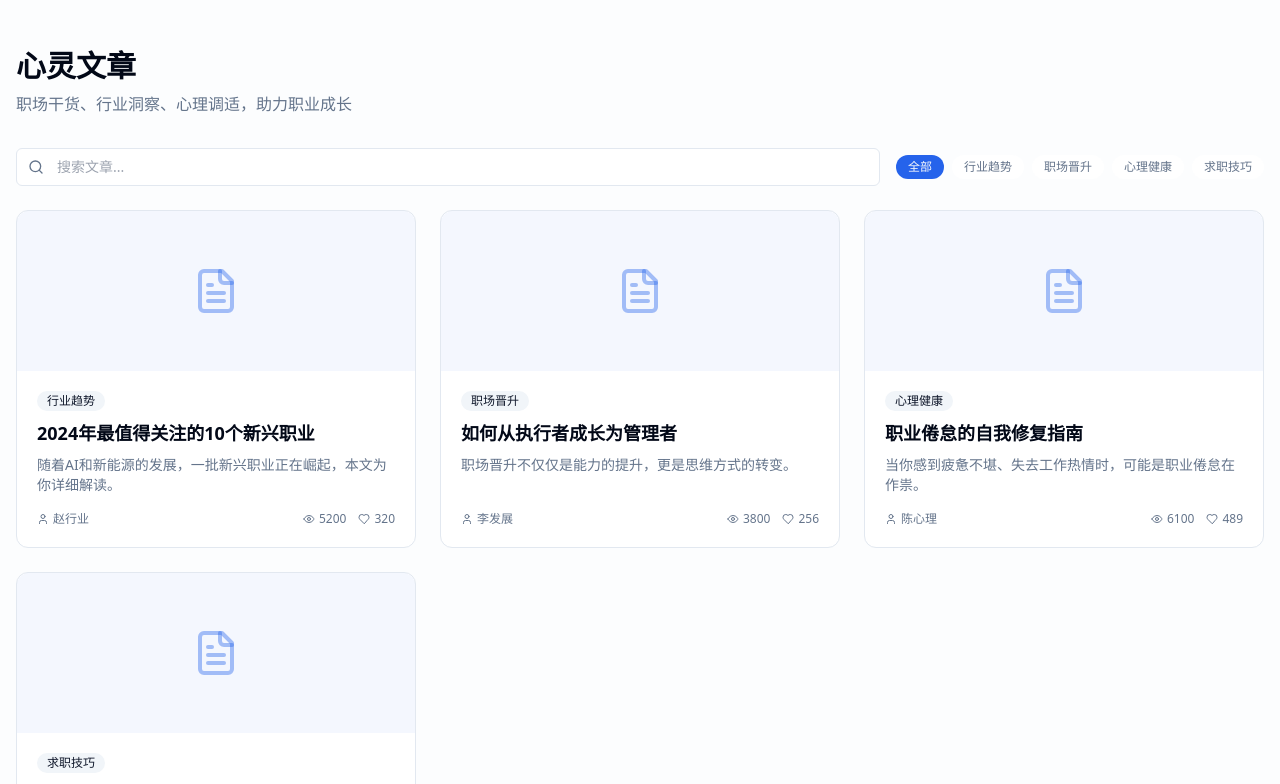
Test: Articles Page › filters articles by category
Click the button "心理健康": click(1148, 167) [1112,155,1184,179]
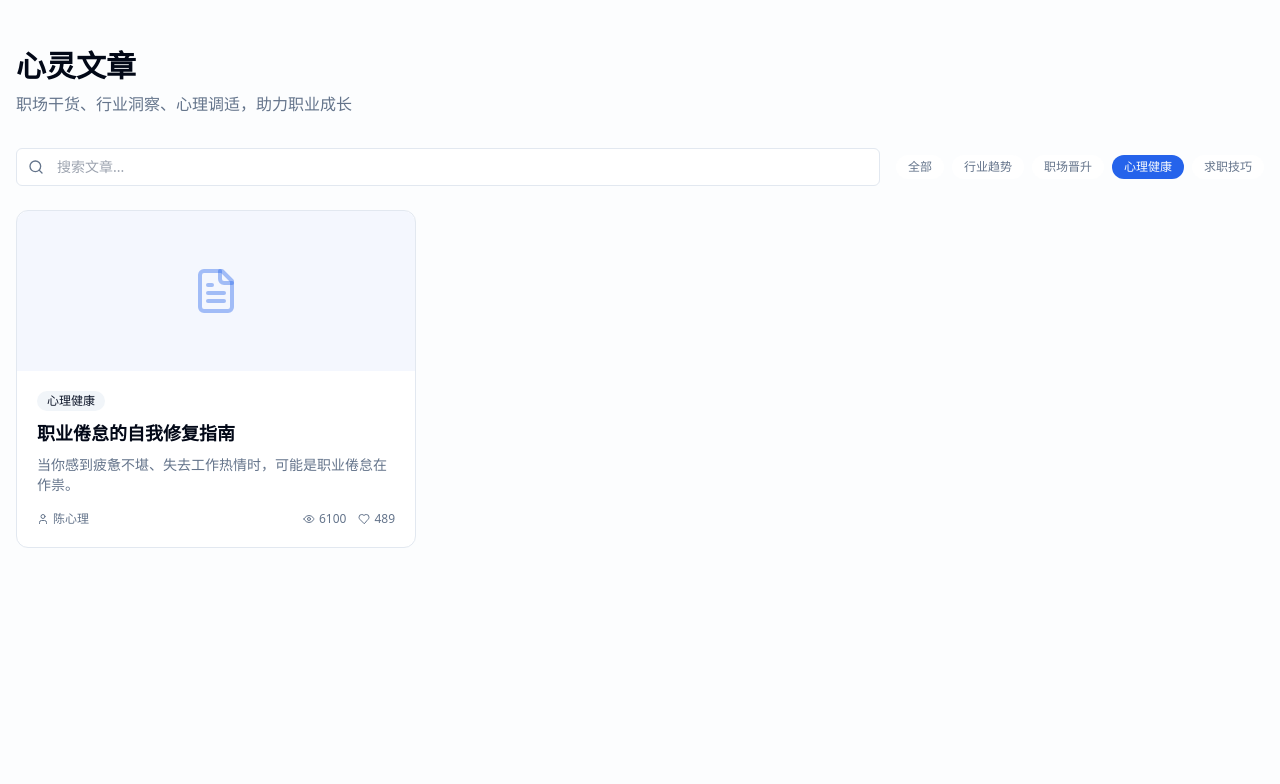
Expected: the heading "职业倦怠的自我修复指南" is shown, [37,421,235,445]
Expected: the link "2024年最值得关注的10个新兴职业" is gone
